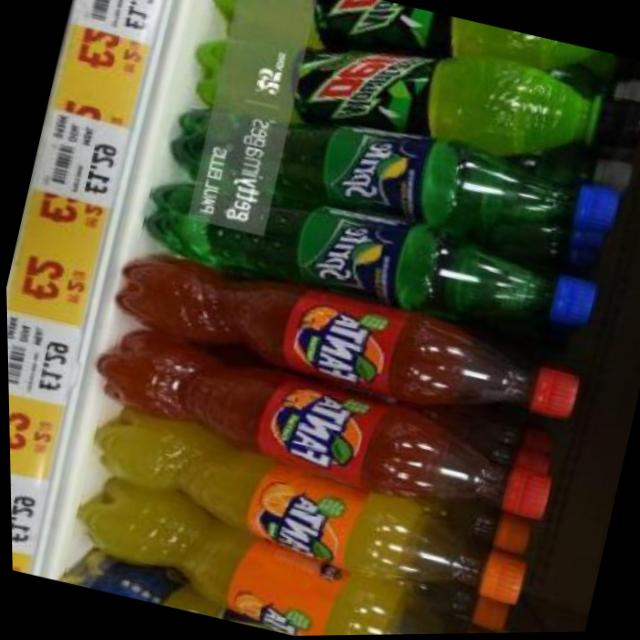Drinks: (79, 329, 560, 538), (104, 243, 587, 451), (138, 158, 602, 363), (161, 73, 621, 273), (73, 421, 534, 618), (191, 0, 640, 192), (63, 503, 509, 639), (209, 0, 640, 111)
